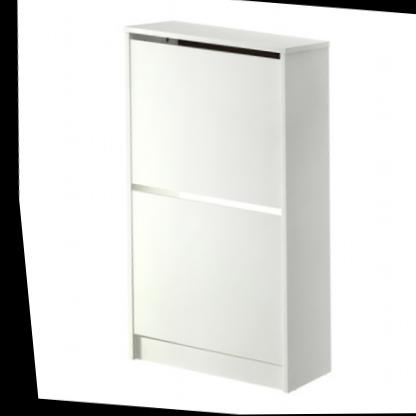Cabinet: (87, 11, 362, 401)
